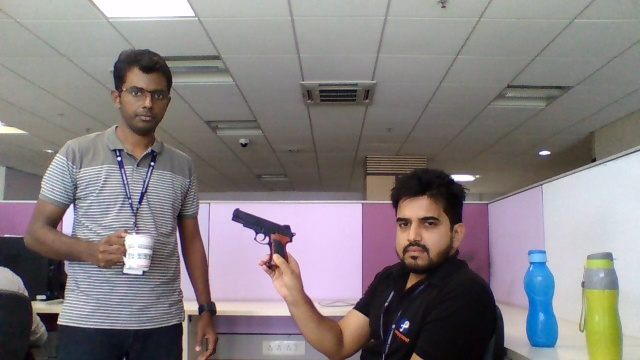gun: (229, 207, 296, 253)
